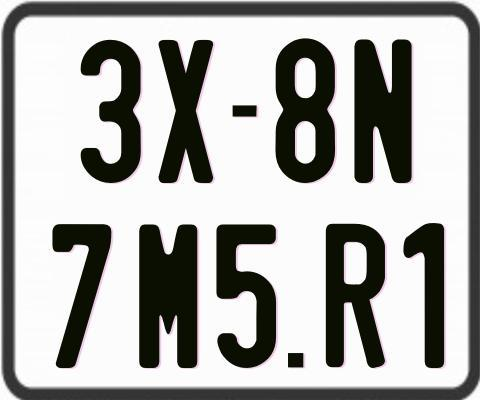1: (402, 222, 443, 371)
3: (79, 38, 142, 181)
5: (214, 224, 276, 368)
7: (51, 221, 112, 367)
8: (272, 38, 332, 185)
M: (136, 222, 195, 370)
N: (353, 36, 415, 184)
R: (324, 221, 384, 367)
X: (157, 38, 217, 184)
